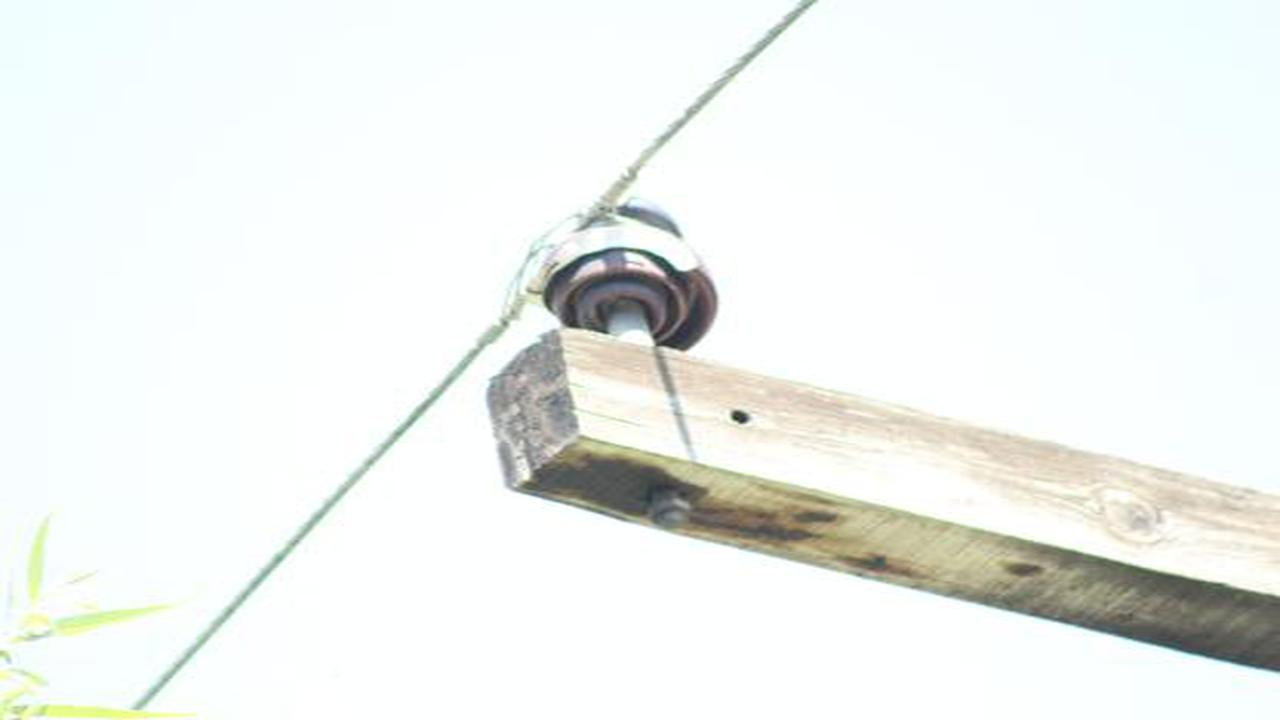defect_pin: (525, 195, 723, 356)
